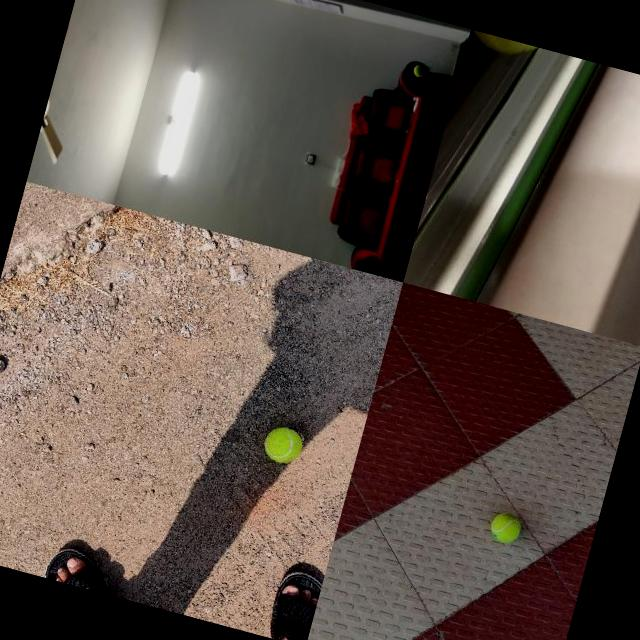tennis-ball: (260, 424, 306, 466), (487, 510, 523, 546), (410, 62, 428, 78)
